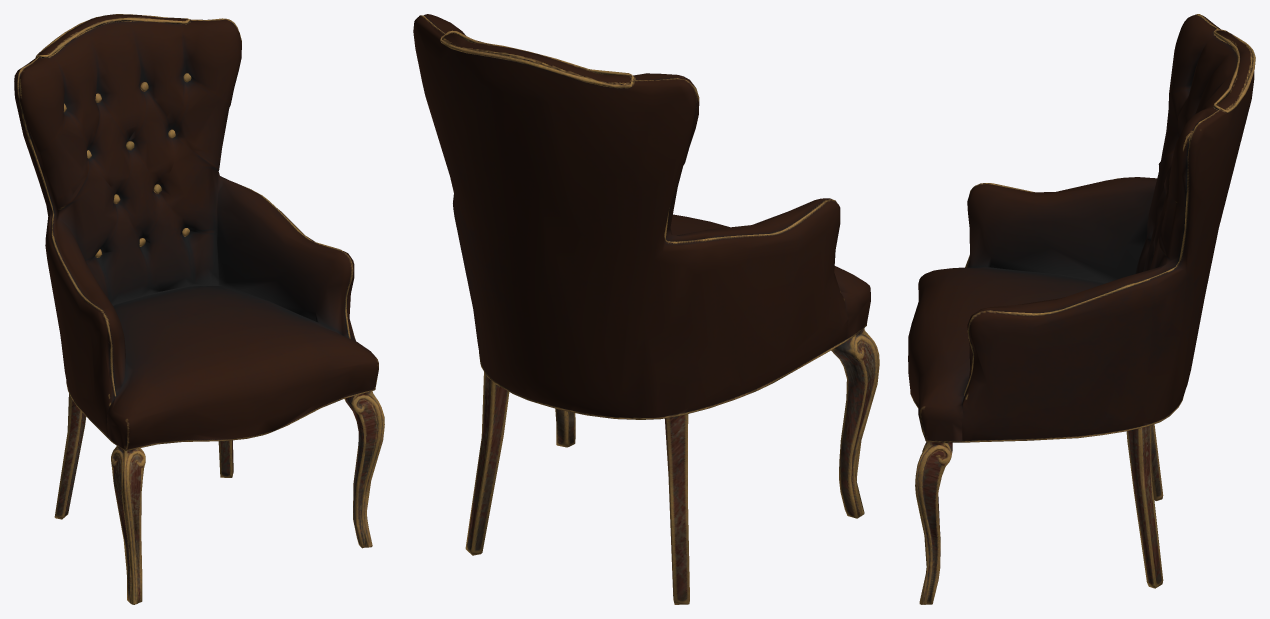
Rendered from SM_CarpaneseChairMaster.FBX.
3 views of the same model, side by side, from view 1: azimuth 30°, elevation 25°; view 2: azimuth 150°, elevation 25°; view 3: azimuth 270°, elevation 25° (orthographic). The views are drawn at different scales.
Parts seen in each view (by area): view 1: SM_CarpaneseChairMaster; view 2: SM_CarpaneseChairMaster; view 3: SM_CarpaneseChairMaster.
Boxes of the visible parts, bbox=[...] form: SM_CarpaneseChairMaster: bbox=[14, 14, 384, 604]; SM_CarpaneseChairMaster: bbox=[413, 14, 879, 604]; SM_CarpaneseChairMaster: bbox=[908, 14, 1255, 604].
Size of what is drawn, in the model's own units: 104 by 111 by 171.
